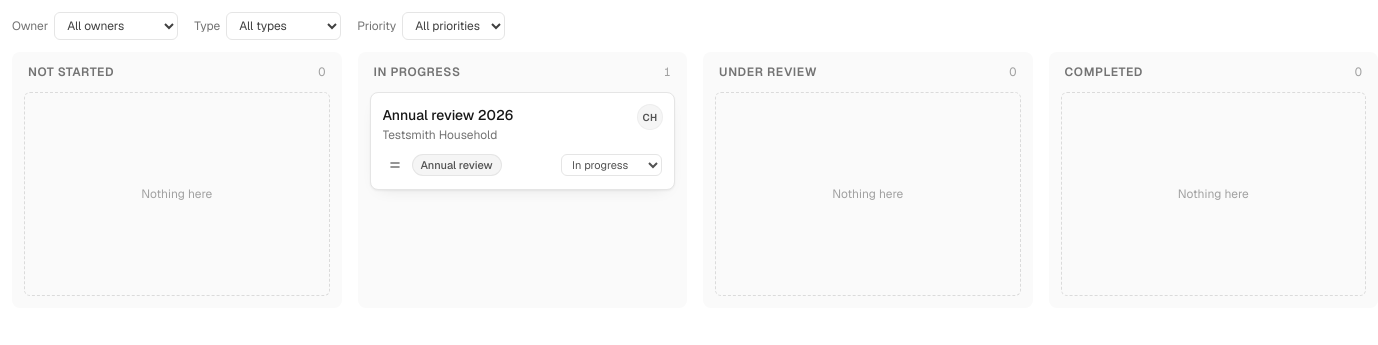
Test: priority › a refused change reverts the glyph with the reason
Click the button named "Priority: " at point(394, 165), box x1=382 y1=153 x2=406 y2=177
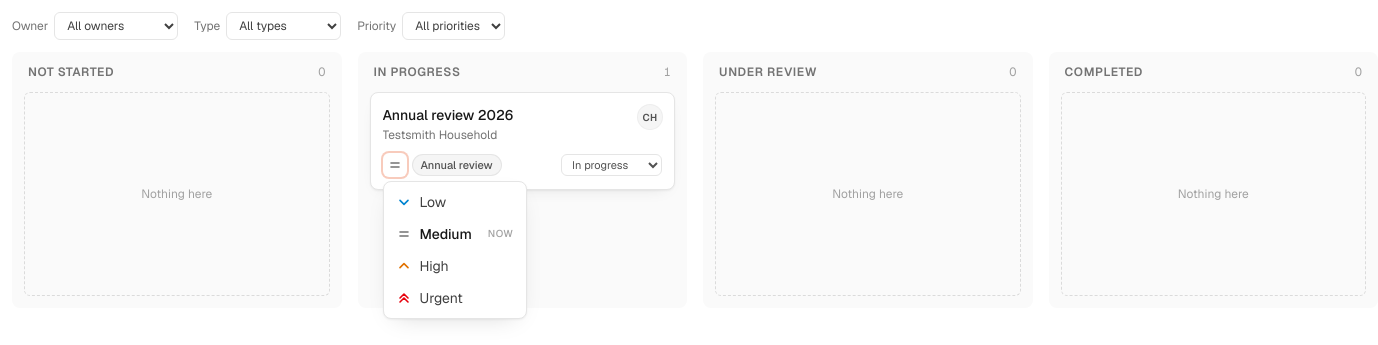
Click the menu item "Low" at point(454, 202), box x1=388 y1=186 x2=522 y2=218
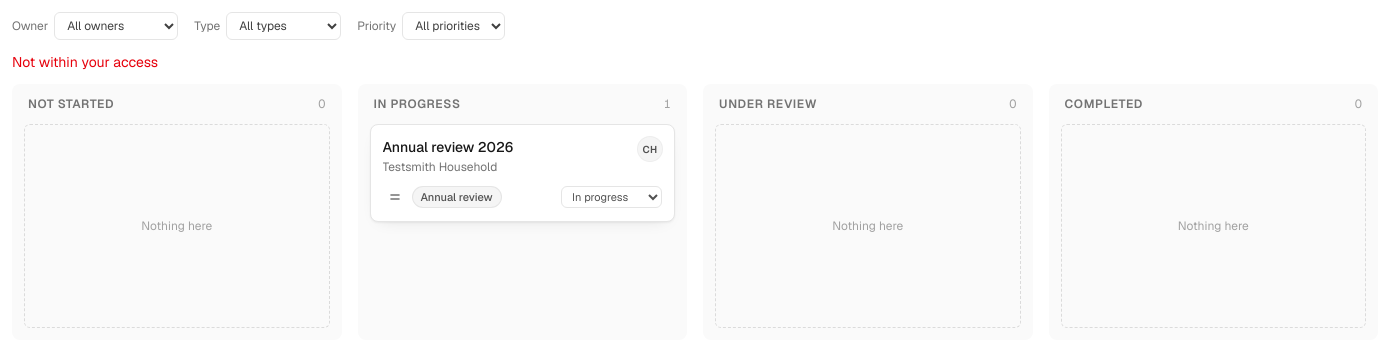
Now the message reads "Not within your access", box x1=12 y1=53 x2=158 y2=71
